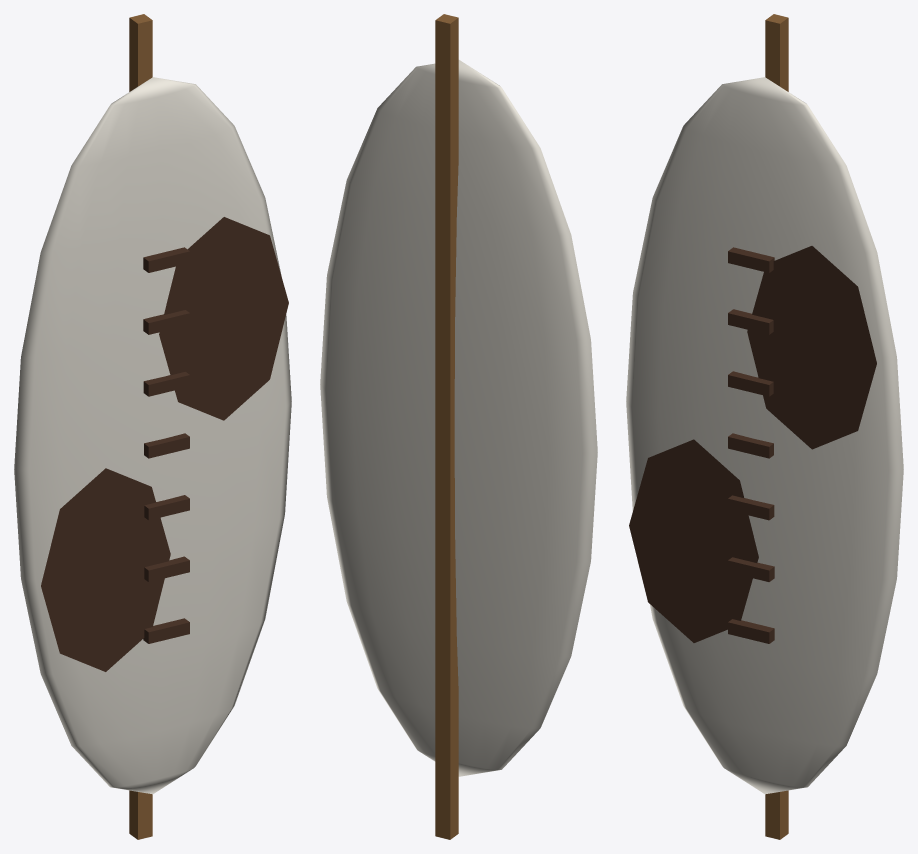
File: zulu-shield.glb
The picture shows the model from 3 angles, left to right: view 1: azimuth 30°, elevation 25°; view 2: azimuth 150°, elevation 25°; view 3: azimuth 330°, elevation 25°; orthographic projection.
Parts seen in each view (by area): view 1: Hide, HidePatch (×2), Lacing (×7), Spine; view 2: Hide, Spine; view 3: Hide, HidePatch (×2), Lacing (×7), Spine.
Boxes of the visible parts, bbox=[...] form: Hide: bbox=[14, 77, 291, 794]; HidePatch (×2): bbox=[41, 217, 288, 671]; Lacing (×7): bbox=[143, 247, 189, 643]; Spine: bbox=[129, 14, 152, 839]; Hide: bbox=[320, 60, 597, 776]; Spine: bbox=[435, 14, 458, 839]; Hide: bbox=[626, 77, 903, 794]; HidePatch (×2): bbox=[629, 246, 876, 642]; Lacing (×7): bbox=[728, 247, 774, 643]; Spine: bbox=[765, 14, 788, 839].
Size of the model in its own units: 0.47 by 1.32 by 0.0955.
